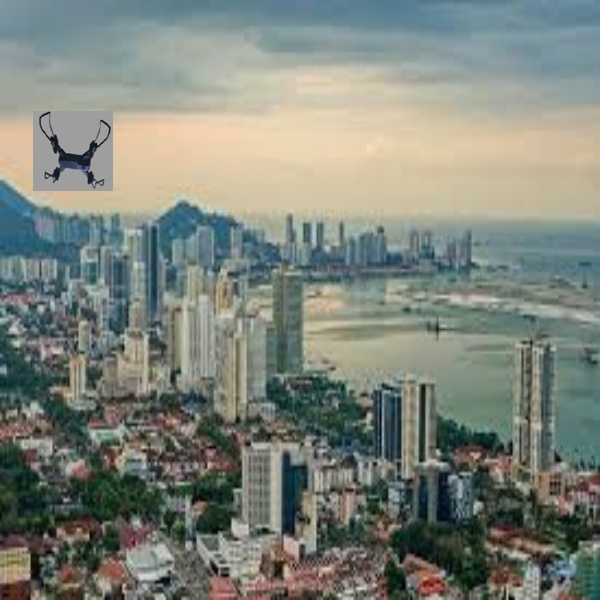drone: (30, 113, 112, 192)
